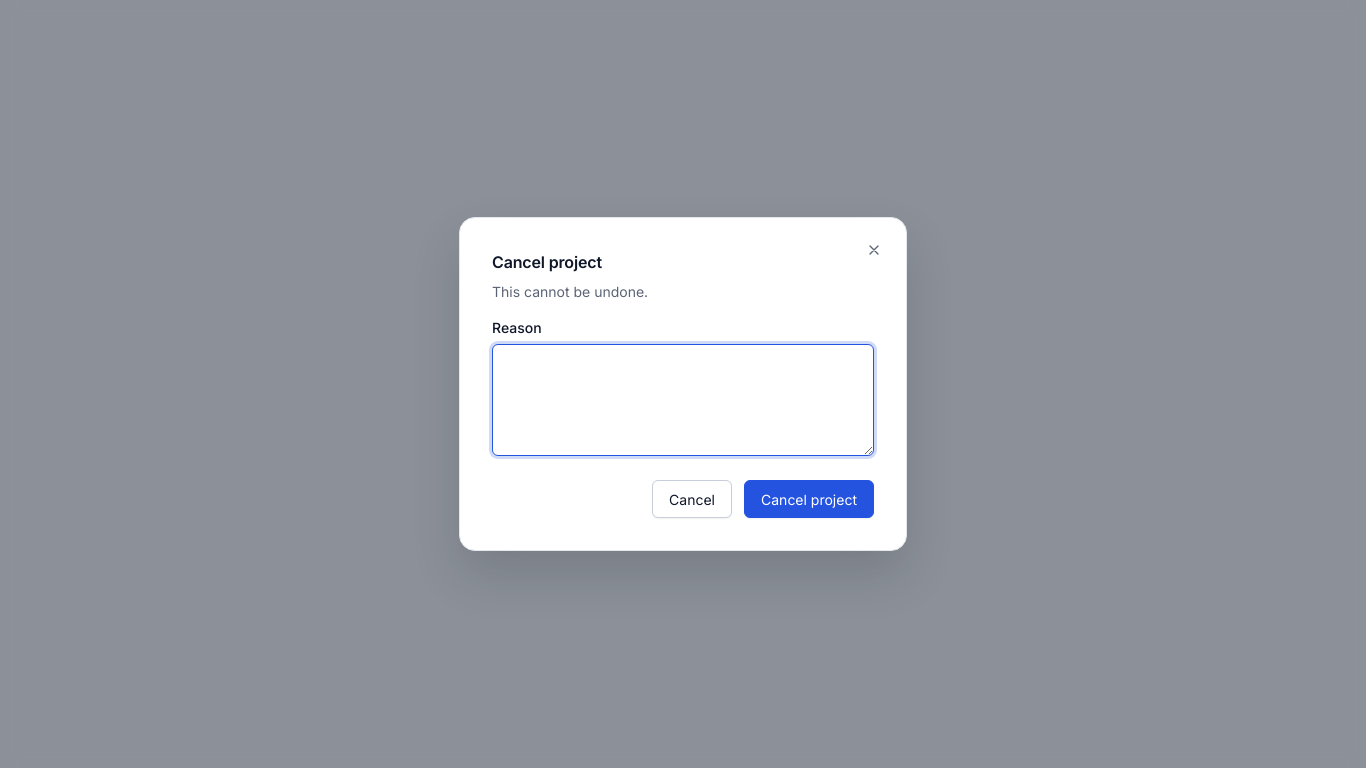
Test: ConfirmActionDialog — reason › blocks confirmation until a required reason is supplied
The image size is (1366, 768).
Click the button "Cancel project".
click(809, 499)  # box [744,480,874,518]
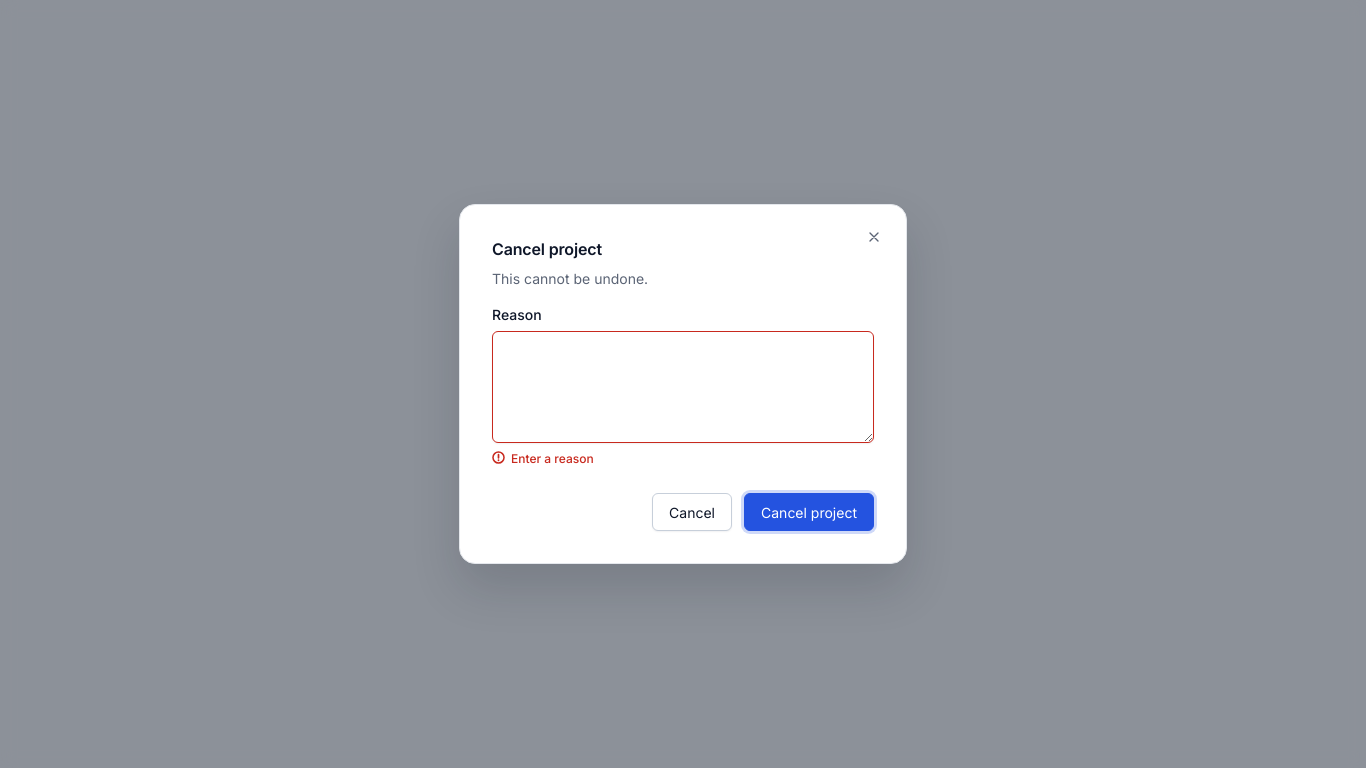
Result: the text "Enter a reason" is shown at [492,451,594,466]
